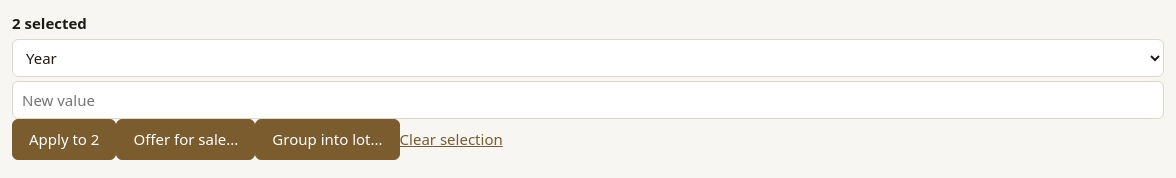
Test: BulkEditBar › says a value is wanted when Apply is pressed with none, and sends nothing
Click the button "Apply to 2".
click(64, 139)  # box [12,119,116,160]
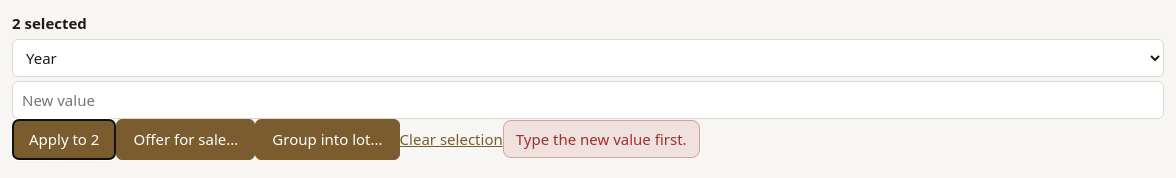
expect the text "Type the new value first." is shown: met, box [503,120,700,158]
